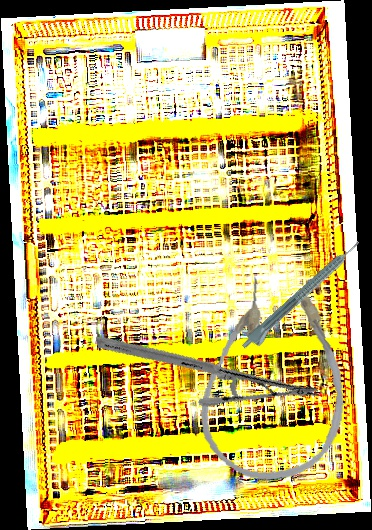Cannula: (194, 271, 358, 489)
Handpiece: (239, 238, 367, 356)
Needle Holder: (95, 281, 320, 454)
